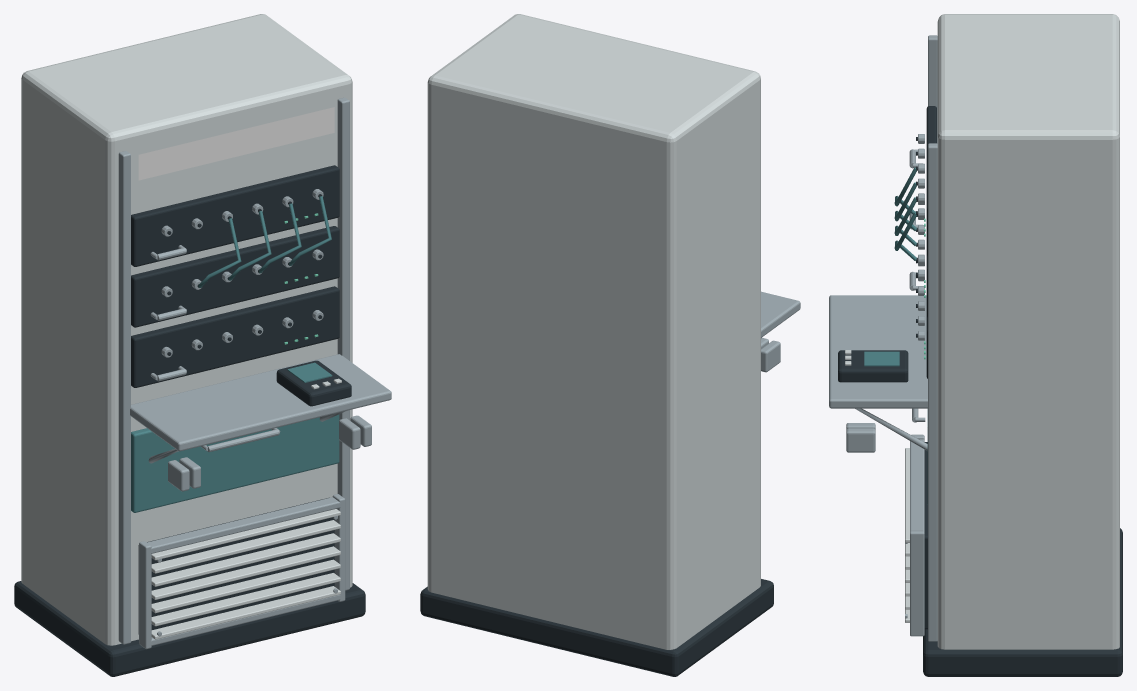
File: SF_SR_AVServiceRack.fbx
3 views of the same model, side by side, from view 1: azimuth 30°, elevation 25°; view 2: azimuth 150°, elevation 25°; view 3: azimuth 270°, elevation 25° (orthographic).
Parts seen in each view (by area): view 1: SF_SR_AVServiceRack; view 2: SF_SR_AVServiceRack; view 3: SF_SR_AVServiceRack.
Boxes of the visible parts, box(x1,y1,x2,y2) form: SF_SR_AVServiceRack: box(14, 14, 391, 676); SF_SR_AVServiceRack: box(420, 14, 800, 676); SF_SR_AVServiceRack: box(829, 14, 1122, 676).
Bounding box in the file's own units: 102 × 204 × 100.
